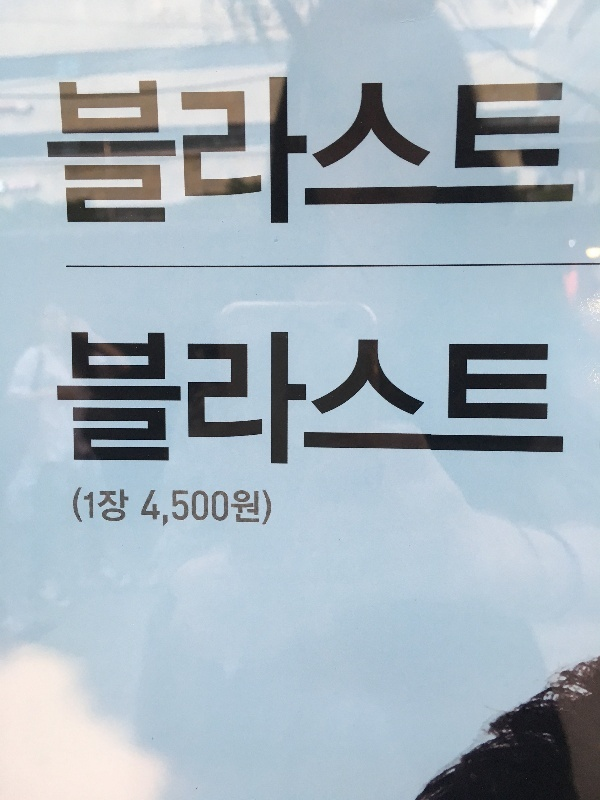text: (561, 74, 577, 225), (49, 74, 64, 225), (65, 74, 80, 225), (81, 74, 96, 225), (97, 74, 112, 225), (113, 74, 128, 225), (129, 74, 144, 225), (145, 74, 160, 225), (161, 74, 176, 225), (177, 74, 192, 225), (193, 74, 208, 225), (209, 74, 224, 225), (225, 74, 240, 225), (241, 74, 256, 225), (257, 74, 272, 225), (273, 74, 288, 225), (289, 74, 304, 225), (305, 74, 320, 225), (321, 74, 336, 225), (337, 74, 352, 225), (353, 74, 368, 225), (369, 74, 384, 225), (385, 74, 400, 225), (401, 74, 416, 225), (417, 74, 432, 225), (433, 74, 448, 225), (449, 74, 464, 225), (465, 74, 480, 225), (481, 74, 496, 225), (497, 74, 512, 225), (513, 74, 528, 225), (529, 74, 544, 225), (545, 74, 560, 225), (65, 333, 80, 466), (81, 333, 96, 466), (97, 333, 112, 466), (113, 333, 128, 466), (129, 333, 144, 466), (145, 333, 160, 466), (161, 333, 176, 466), (177, 333, 192, 466), (193, 333, 208, 466), (209, 333, 224, 466), (225, 333, 240, 466), (241, 333, 256, 466), (257, 333, 272, 466), (273, 333, 288, 466), (289, 333, 304, 466), (305, 333, 320, 466), (321, 333, 336, 466), (337, 333, 352, 466), (353, 333, 368, 466), (369, 333, 384, 466), (385, 333, 400, 466), (401, 333, 416, 466), (417, 333, 432, 466), (433, 333, 448, 466), (449, 333, 464, 466), (465, 333, 480, 466), (481, 333, 496, 466), (497, 333, 512, 466), (513, 333, 528, 466), (529, 333, 544, 466), (545, 333, 560, 466), (57, 333, 64, 466), (561, 333, 566, 466), (257, 489, 273, 530), (145, 489, 160, 530), (161, 489, 176, 530), (177, 489, 192, 530), (193, 489, 208, 530), (209, 489, 224, 530), (225, 489, 240, 530), (241, 489, 256, 530), (44, 74, 48, 225), (81, 489, 96, 525), (97, 489, 112, 525), (113, 489, 128, 525), (72, 489, 80, 525), (141, 489, 144, 530), (129, 489, 130, 525)
